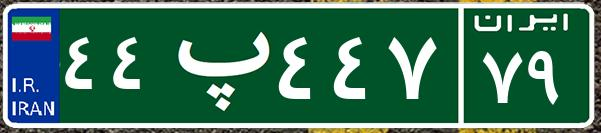4: (273, 28, 330, 110), (330, 28, 385, 110), (57, 26, 110, 107), (110, 28, 158, 105)
7: (385, 28, 445, 110), (475, 38, 525, 113)
9: (525, 38, 570, 115)
پ: (158, 15, 273, 115)
